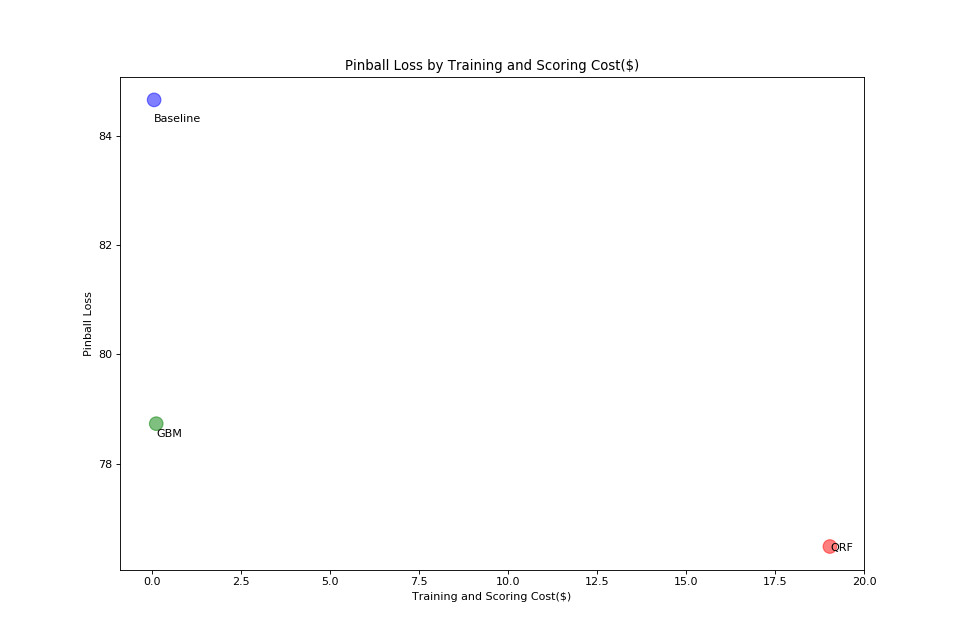

The dashboard page shown, as its layout file describes it:
{"tool":"powerbi","page":{"name":"Cost - Energy","canvas":[1280,720],"ordinal":4},"visuals":[{"type":"scatterChart","fields":{"Category":["Energy.Submission Name"],"X":["Sum(Energy.Training and Scoring Cost)"],"Y":["Sum(Energy.Pinball Loss)"],"Series":["Energy.Submission Name"]},"box":[162.3,22.2,840.9,698.4],"z":1}]}

Visuals, with their boxes on the page's 1280x720 design canvas (x1, y1, x2, y2). These are canvas units, not pixel positions in the 960x640 screenshot, which may show the page scaled, cropped or inside an application window:
scatterChart - Energy.Submission Name x Sum(Energy.Training and Scoring Cost): (x1=162, y1=22, x2=1003, y2=721)
